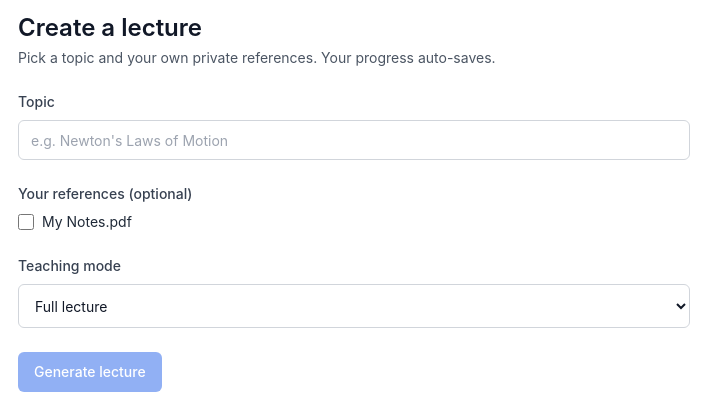
Test: IndependentLectureWizardClient › shows a failure state when generation fails
The image size is (709, 409).
Type "Newton's Laws" into the field labelled "Topic" at (354, 140), box [18,120,690,160]
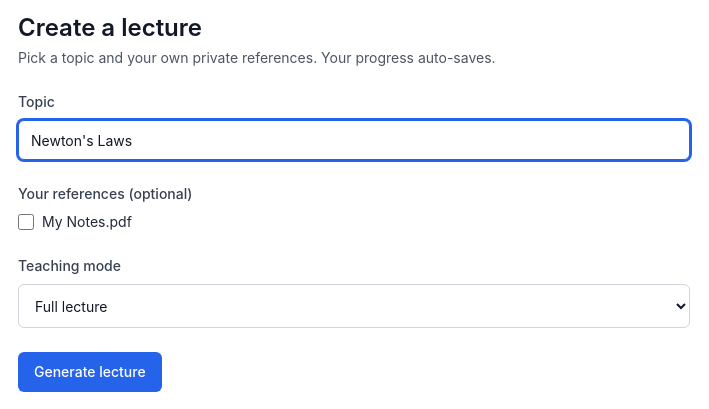
Click the button "Generate lecture" at (90, 372), box [18,352,162,392]
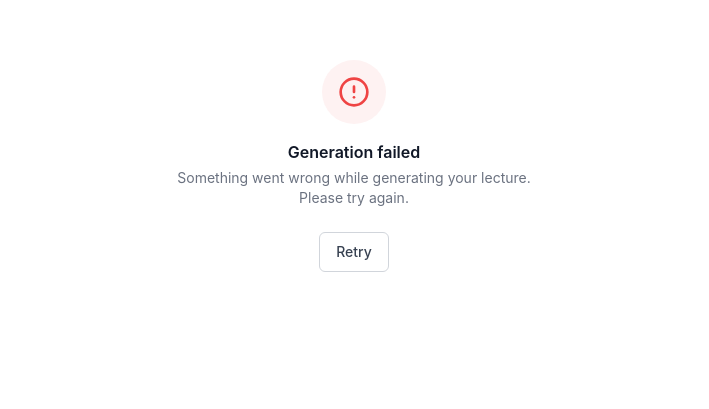
Expected: the heading "Generation failed" is shown, [288,140,420,164]
